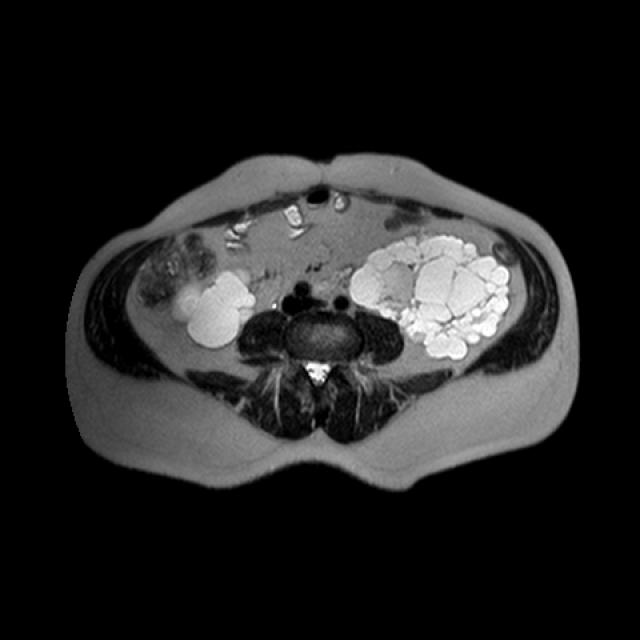sag: (168, 265, 258, 348)
sol: (349, 232, 510, 361)
